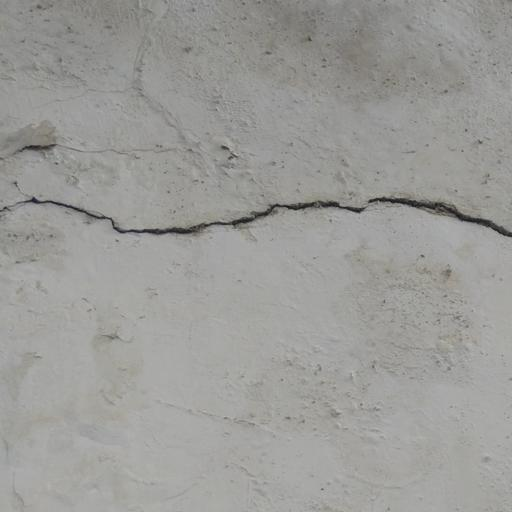major_crack: (0, 161, 512, 262)
